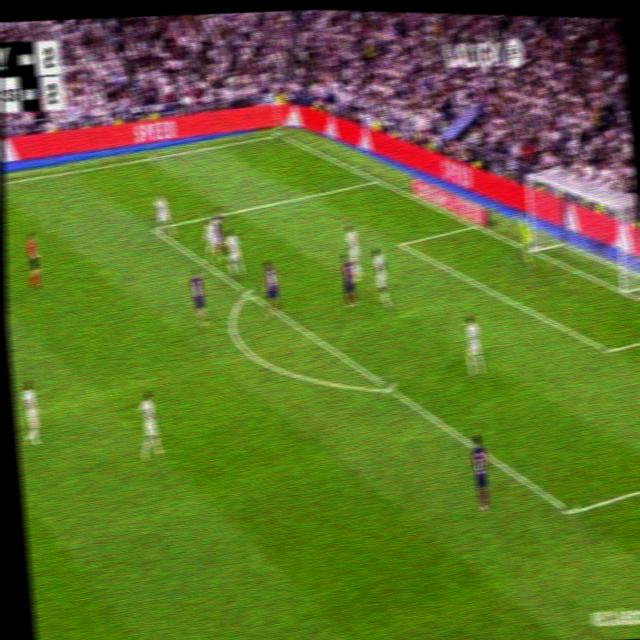bigarea_bottom_inner: (560, 492, 580, 529)
bigarea_top_outter: (370, 169, 381, 187)
bottom_arc_area_intersection: (381, 374, 397, 400)
corner: (272, 125, 285, 141)
smallarea_bottom_inner: (601, 338, 616, 362)
smallarea_top_inner: (146, 217, 160, 238)
top_arc_area_intersection: (240, 282, 254, 301)
